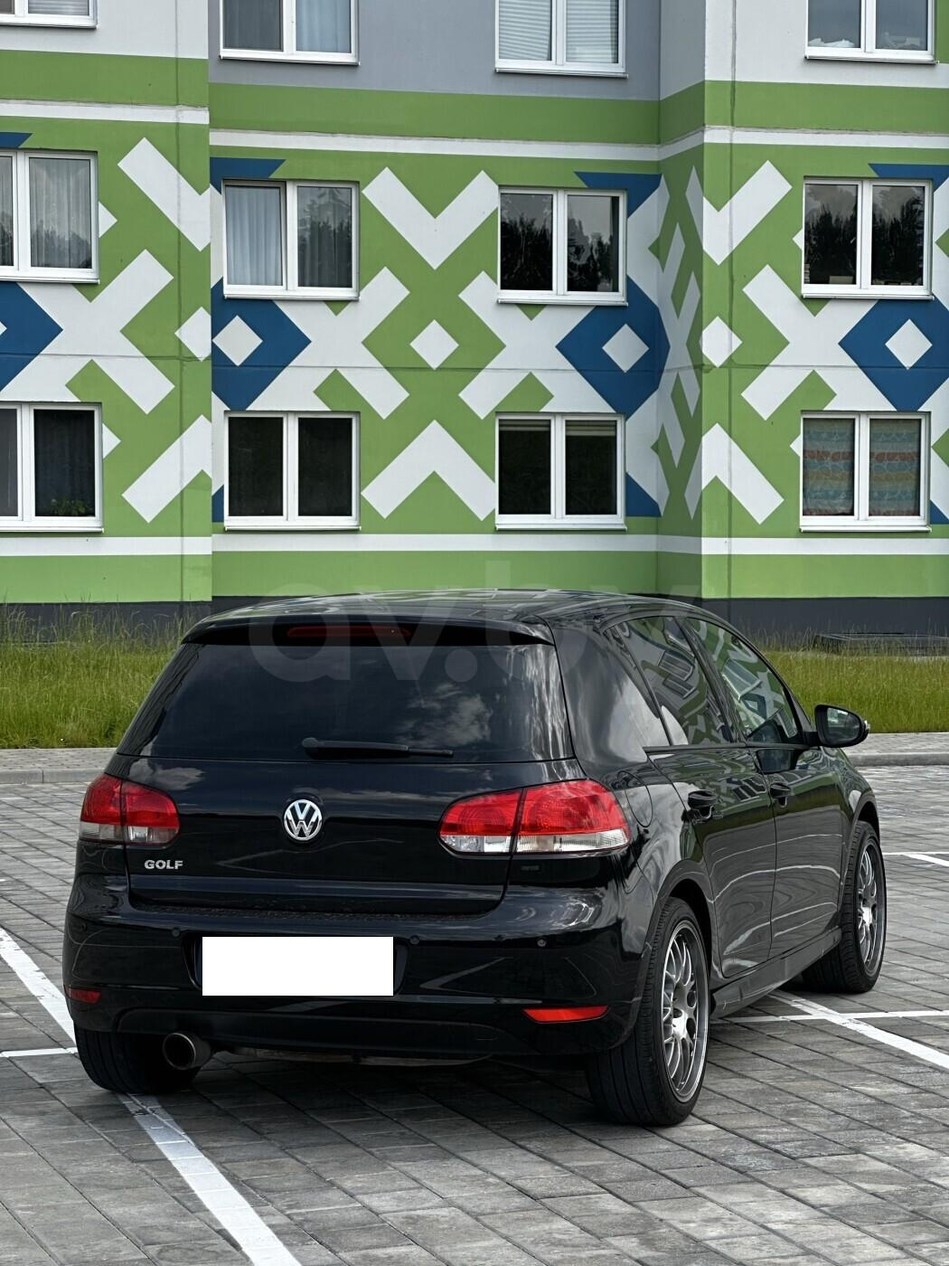Golf_2008-2013: (52, 581, 901, 1150)
